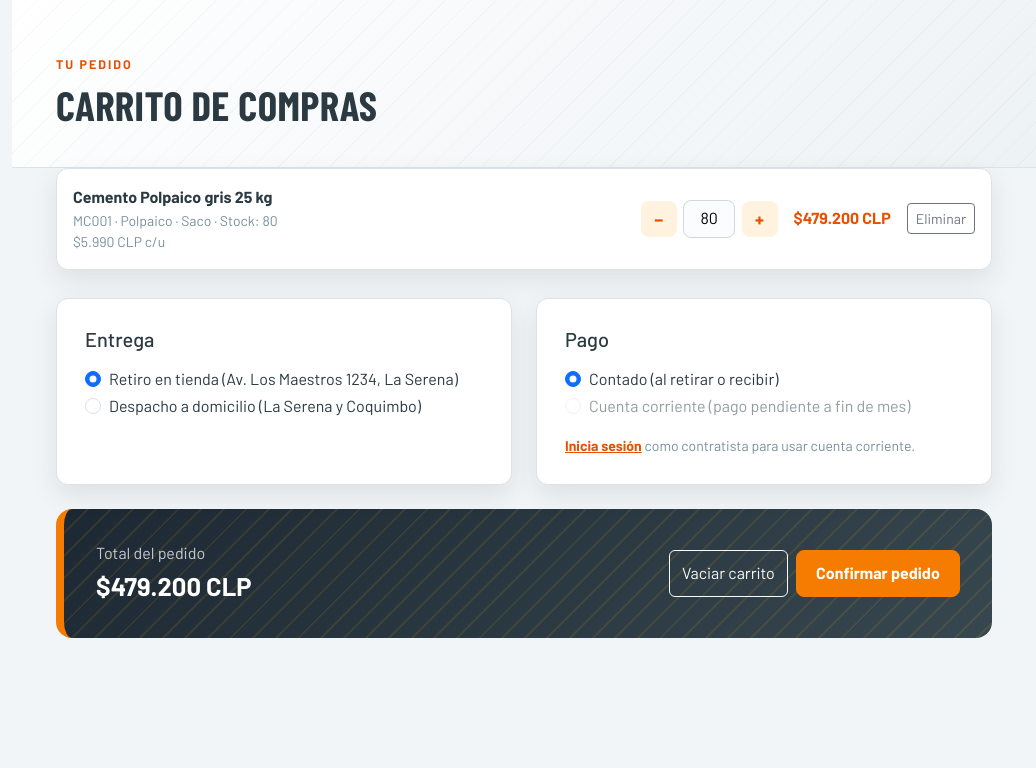
Test: Página del Carrito › no permite superar el stock disponible y avisa al usuario
Click the button "+": x=760, y=219 [742,201,778,237]
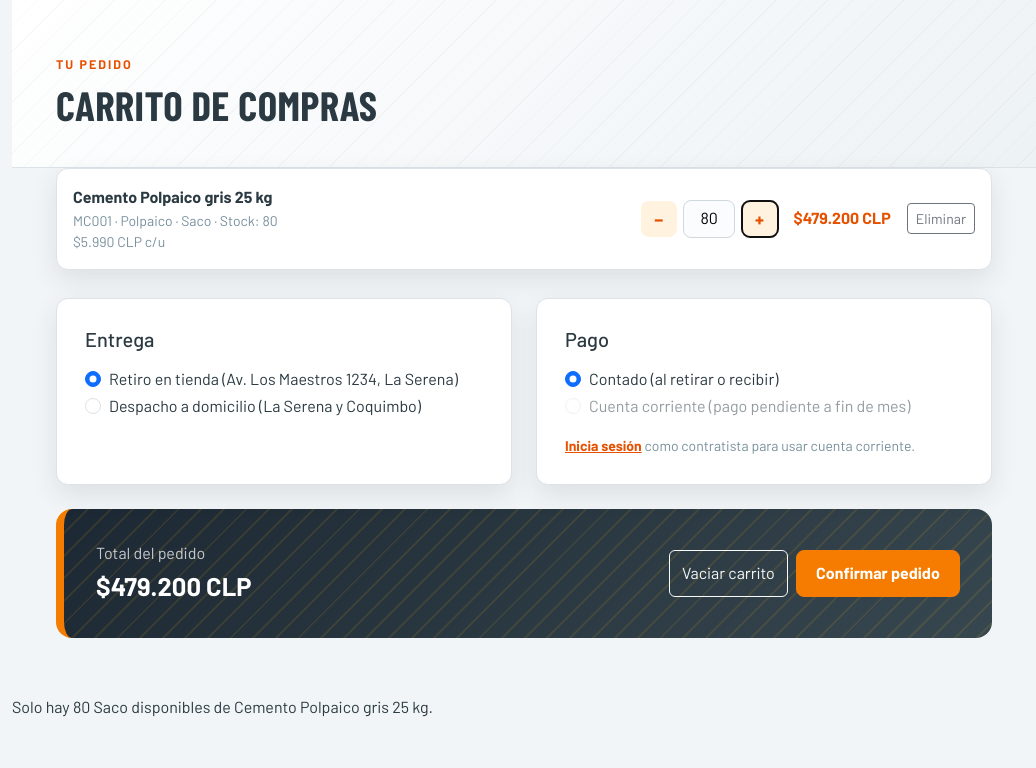
Expected: the text with test id "aviso" shows "Solo hay 80 Saco disponibles", [12,697,433,716]
